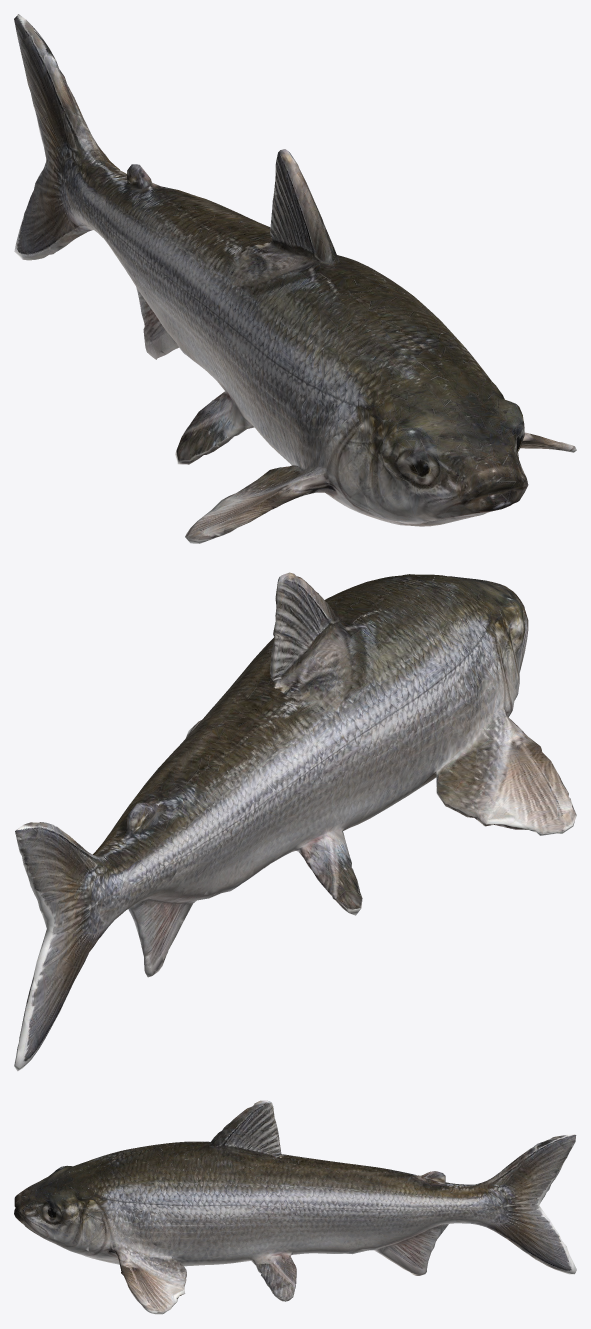
Rendered from fish_whitefish.glb.
3 views of the same model, one above another, from view 1: azimuth 30°, elevation 25°; view 2: azimuth 150°, elevation 25°; view 3: azimuth 270°, elevation 25° (orthographic). The views are drawn at different scales.
Visible parts, largest first — view 1: geometry_0; view 2: geometry_0; view 3: geometry_0.
Boxes of the visible parts, x1,y1,x2,y2 form: geometry_0: [14, 14, 576, 543]; geometry_0: [14, 572, 576, 1071]; geometry_0: [14, 1100, 576, 1314].
Size of the model in its own units: 0.8969 by 0.6796 by 1.96.
Materials: 1 (1 with a texture image).
